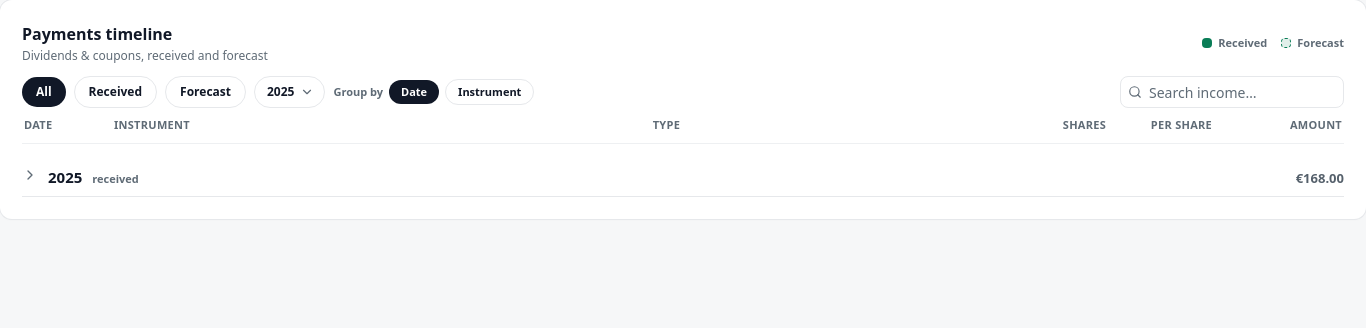
Test: IncomeTimeline year as URL state › opens on ?year= and follows back/forward URL changes
The image size is (1366, 328).
Older years start collapsed — expand the (only) 2025 group header.
What coordinates should you click on to do the following:
click the button "2025 received €168.00"
I would click on:
 (65, 177)
Its box is [22,158,1344,197].
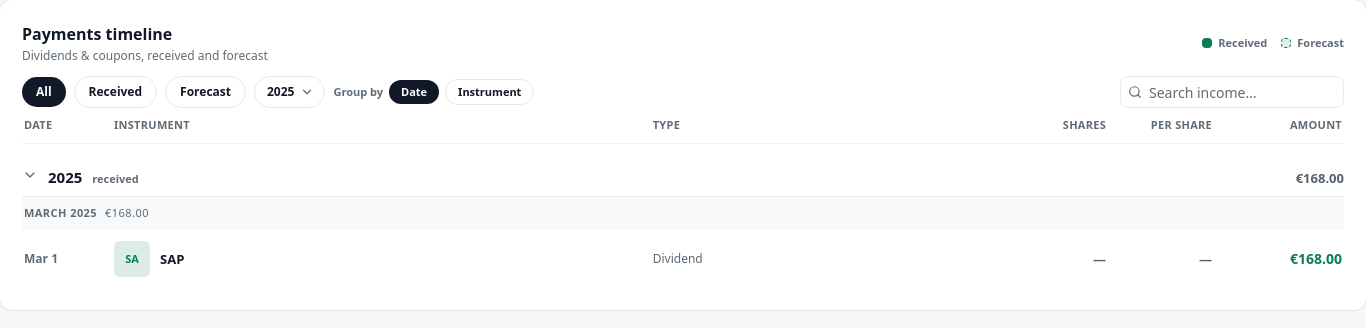
expect the text "SAP" is shown: met, box [160,250,184,269]
